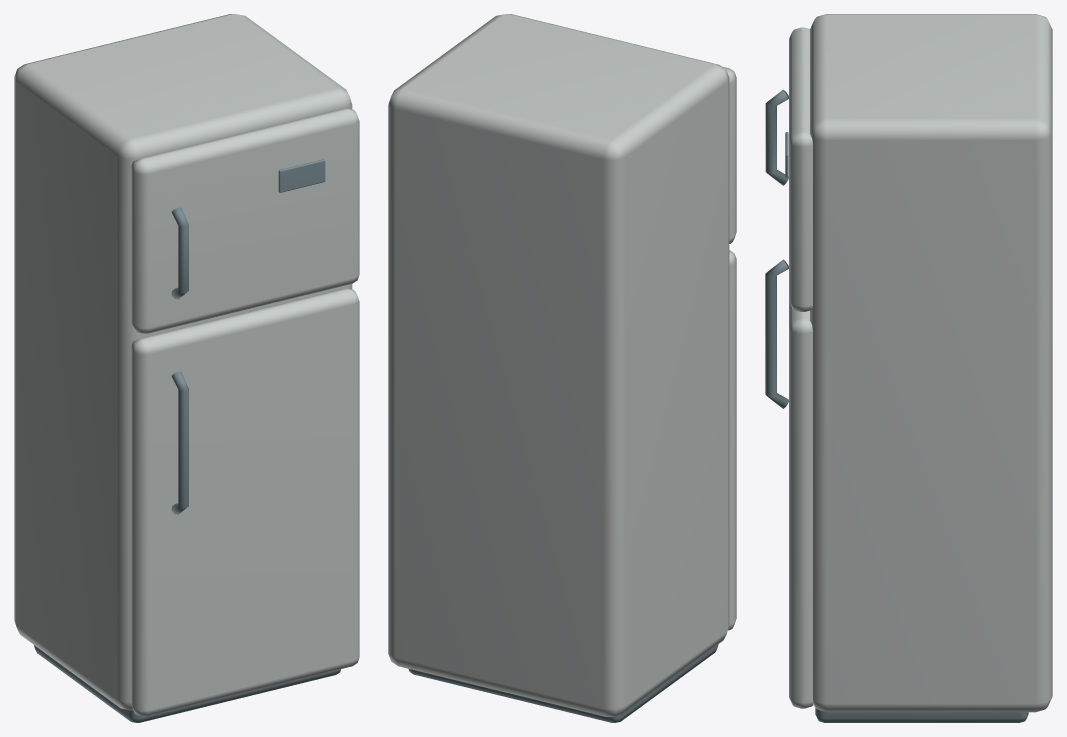
Rendered from fridge.glb.
The picture shows the model from 3 angles, left to right: view 1: azimuth 30°, elevation 25°; view 2: azimuth 150°, elevation 25°; view 3: azimuth 270°, elevation 25°; orthographic projection. The views are drawn at different scales.
Visible parts, largest first — view 1: cabinet, refrigerator_door, freezer_door, kickplate, vertical_handle_0.9, temperature_display, vertical_handle_1.49; view 2: cabinet, refrigerator_door, kickplate, freezer_door; view 3: cabinet, refrigerator_door, freezer_door, kickplate, vertical_handle_0.9, vertical_handle_1.49.
Boxes of the visible parts, bbox=[...] form: cabinet: bbox=[14, 14, 352, 710]; refrigerator_door: bbox=[131, 288, 359, 716]; freezer_door: bbox=[131, 108, 359, 333]; kickplate: bbox=[34, 645, 340, 722]; vertical_handle_0.9: bbox=[171, 371, 188, 514]; temperature_display: bbox=[278, 159, 325, 192]; vertical_handle_1.49: bbox=[171, 207, 188, 299]; cabinet: bbox=[388, 14, 729, 716]; refrigerator_door: bbox=[728, 250, 736, 630]; kickplate: bbox=[408, 644, 718, 722]; freezer_door: bbox=[722, 66, 736, 243]; cabinet: bbox=[810, 14, 1052, 712]; refrigerator_door: bbox=[789, 301, 813, 708]; freezer_door: bbox=[789, 27, 812, 311]; kickplate: bbox=[815, 708, 1028, 722]; vertical_handle_0.9: bbox=[765, 259, 788, 408]; vertical_handle_1.49: bbox=[765, 89, 788, 185].
Size of the model in its own units: 0.76 by 1.82 by 0.7809.
